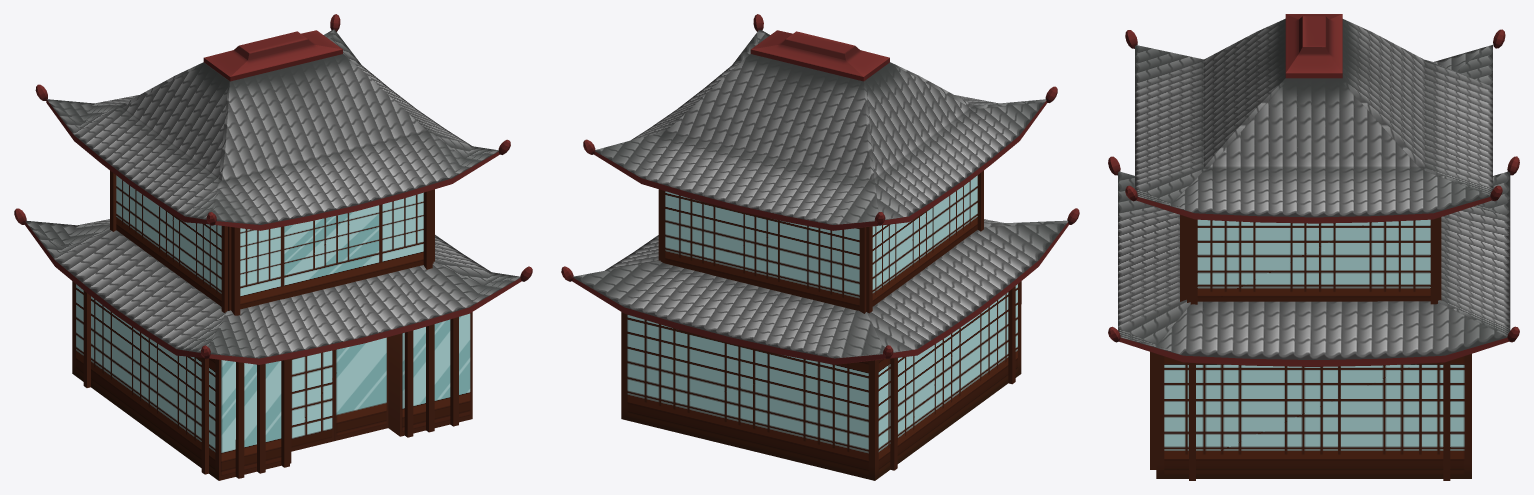
Rendered from japanese_house_01.fbx.
3 views of the same model, side by side, from view 1: azimuth 30°, elevation 25°; view 2: azimuth 150°, elevation 25°; view 3: azimuth 270°, elevation 25° (orthographic). The views are drawn at different scales.
Parts seen in each view (by area): view 1: Japanese__h01; view 2: Japanese__h01; view 3: Japanese__h01.
Boxes of the visible parts, x1,y1,x2,y2 form: Japanese__h01: (14, 14, 532, 480); Japanese__h01: (561, 14, 1079, 480); Japanese__h01: (1108, 14, 1519, 480).
Bounding box in the file's own units: 9.12 × 9.33 × 9.14.
